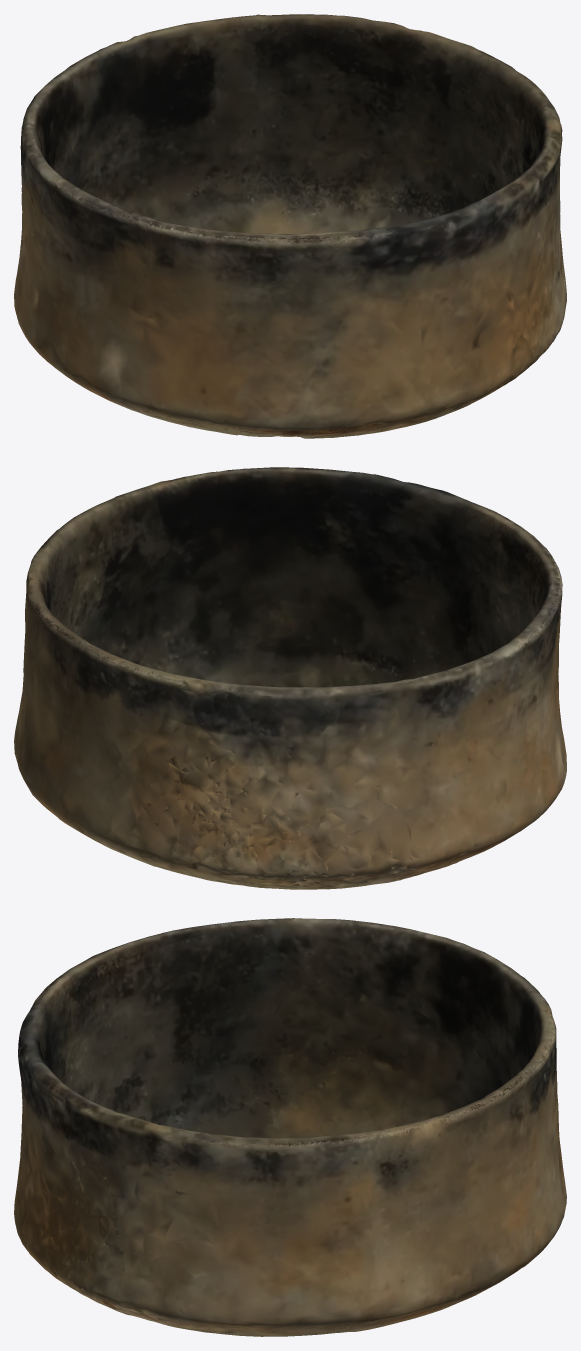
3 views of the same model, one above another, from view 1: azimuth 30°, elevation 25°; view 2: azimuth 150°, elevation 25°; view 3: azimuth 270°, elevation 25° (orthographic).
Parts seen in each view (by area): view 1: Mesh_0.009; view 2: Mesh_0.009; view 3: Mesh_0.009.
Boxes of the visible parts, box(x1,y1,x2,y2) form: Mesh_0.009: box(14, 14, 566, 438); Mesh_0.009: box(14, 467, 566, 889); Mesh_0.009: box(14, 918, 566, 1336).
Bounding box in the file's own units: 0.2115 × 0.1004 × 0.2104.
Materials: 1 (1 with a texture image).
